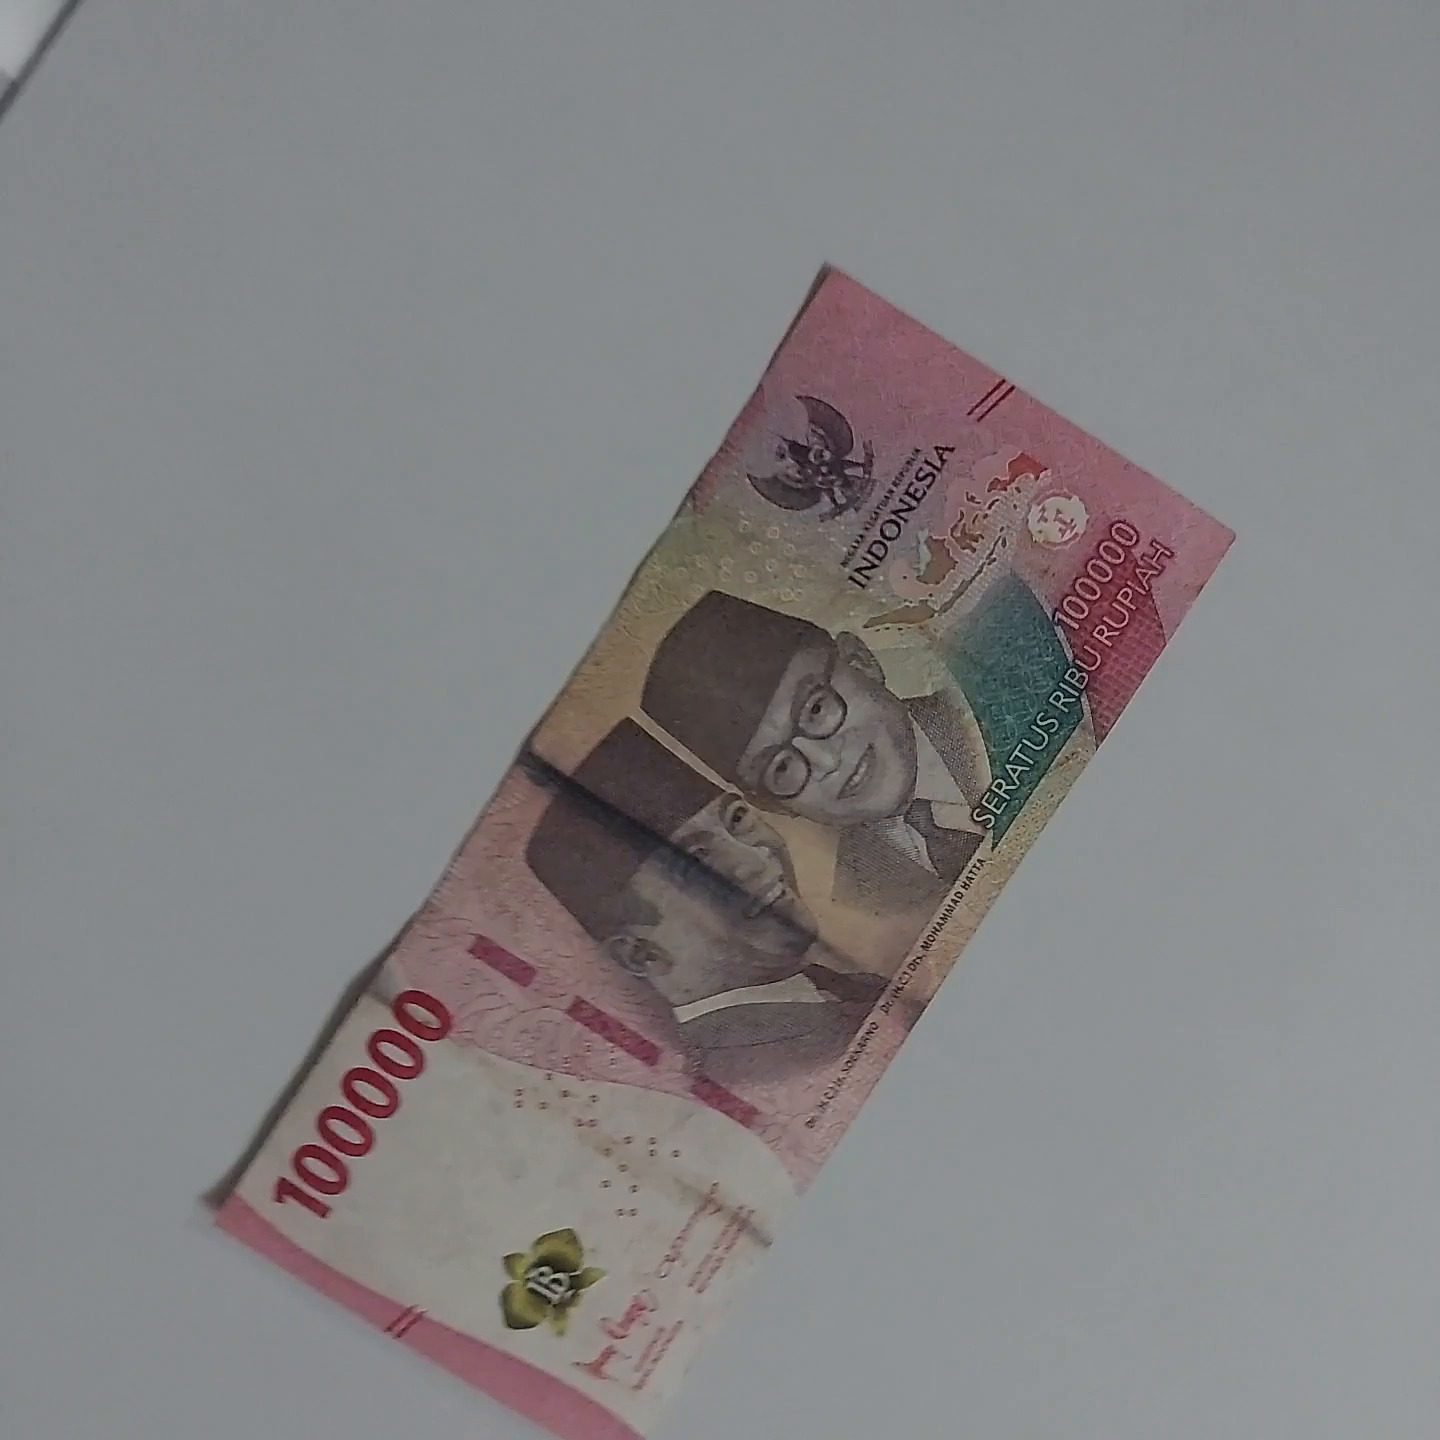100k: (833, 193, 1341, 1344)
